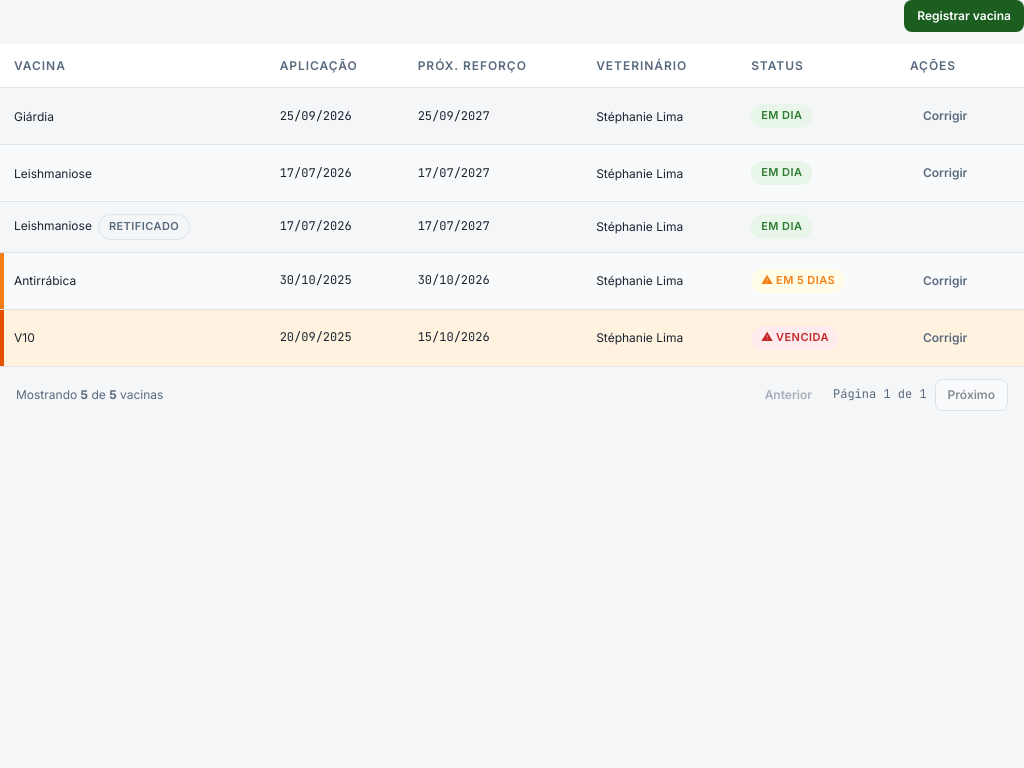
Test: ModalRegistrarVacina — retifica › corrige uma vacinação existente sem alterar o original, deixando o número da dose em branco
The width and height of the screenshot is (1024, 768).
Click the button "Corrigir" in the row of "V10".
click(945, 338)  # box [910, 322, 980, 354]
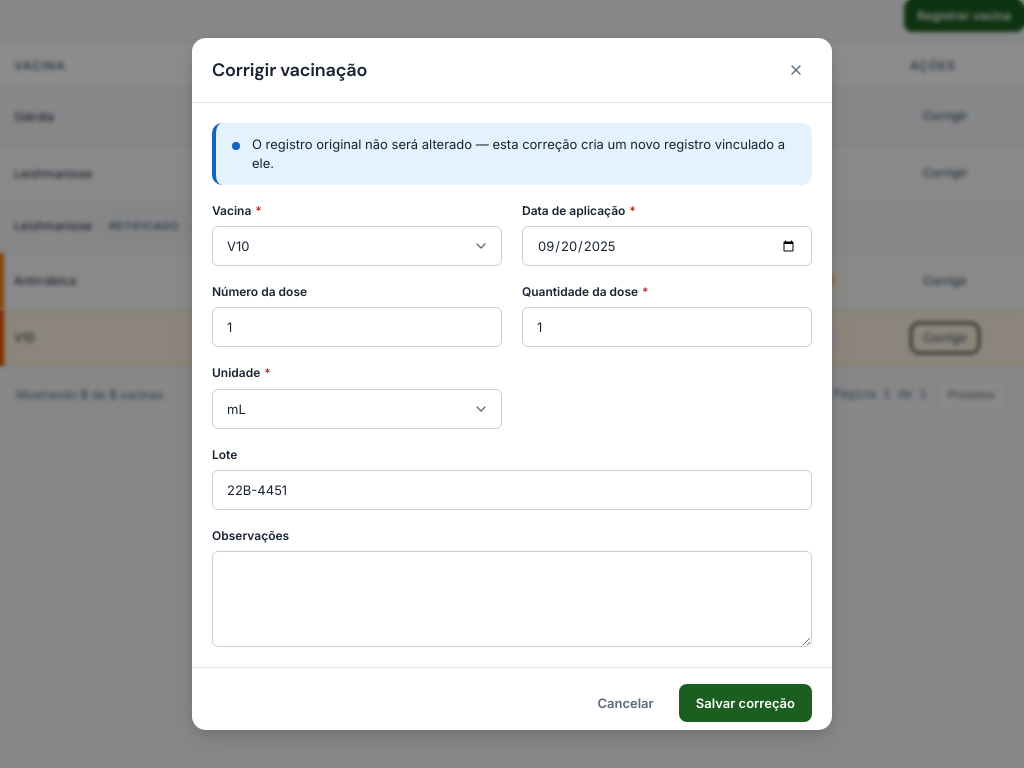
Expected: the text "O registro original não será alterado" is shown, [252, 136, 785, 171]
Expected: the dropdown labelled "Vacina *" shows "V10", [212, 226, 502, 266]
Expected: the number field labelled "Número da dose" holds "1"
# Número da dose é opcional: apagar o valor não pode travar o submit.
Clear the number field labelled "Número da dose" at (357, 328), box [212, 308, 502, 348]
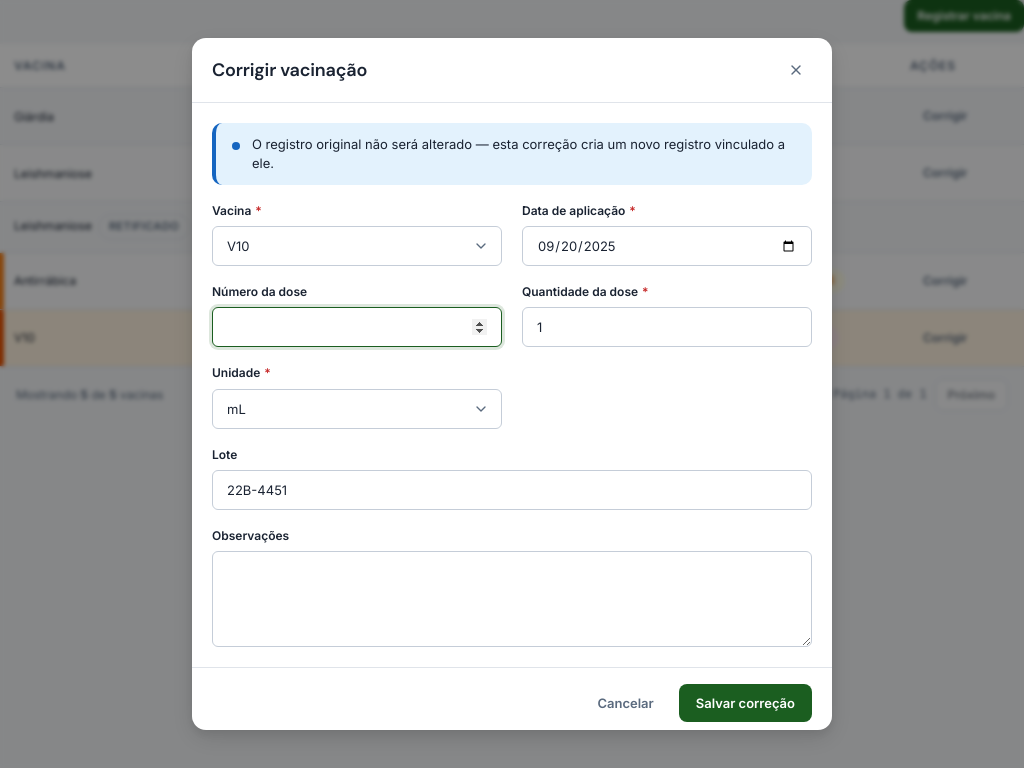
Replace the text in the field labelled "Lote" with "LOTE-99" at (512, 490), box [212, 470, 812, 510]
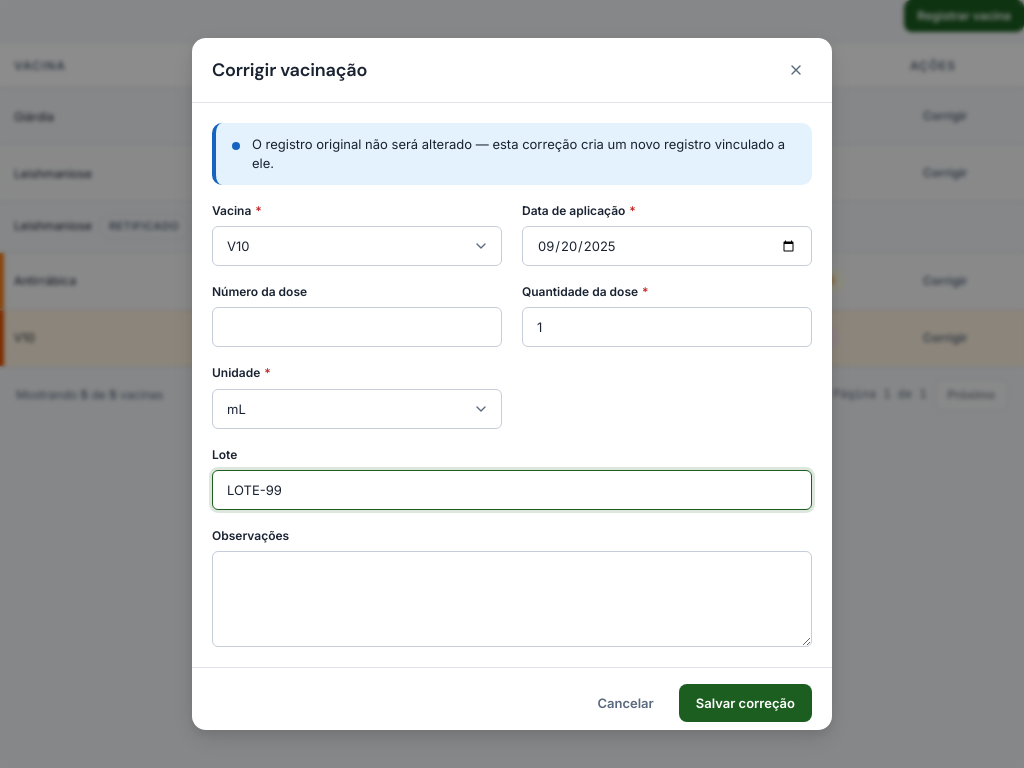
Click the button "Salvar correção".
click(745, 703)  # box [679, 684, 812, 722]
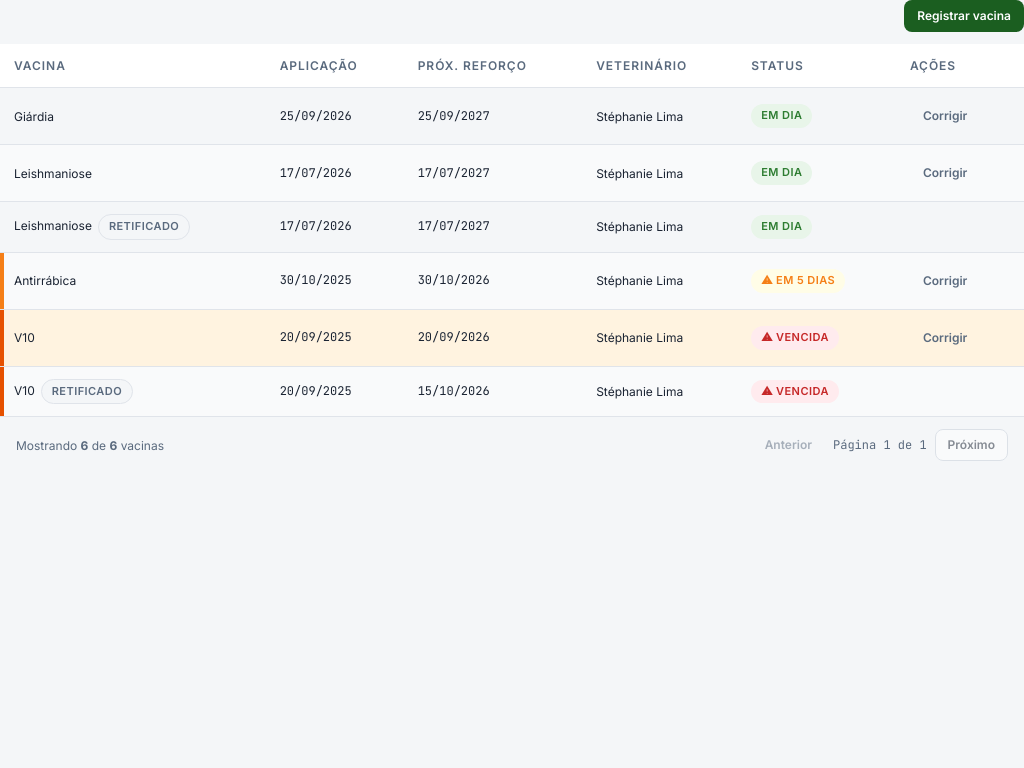
Expected: the heading "Corrigir vacinação" is gone
